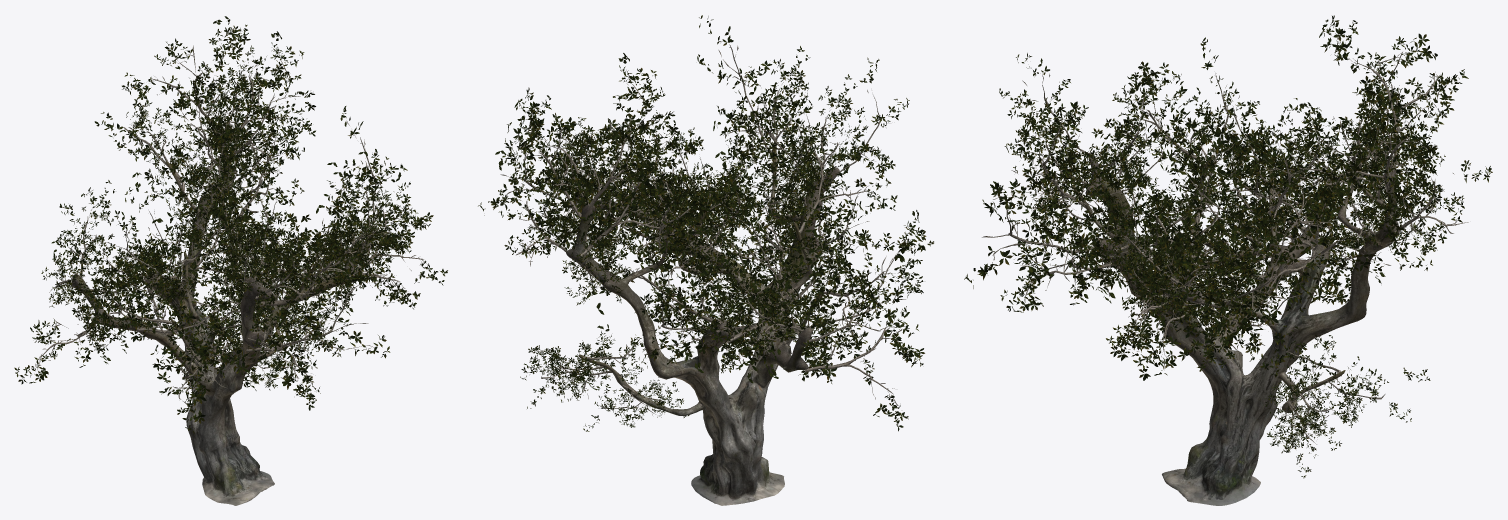
File: island_tree_near.glb
3 views of the same model, side by side, from view 1: azimuth 30°, elevation 25°; view 2: azimuth 150°, elevation 25°; view 3: azimuth 270°, elevation 25° (orthographic). The views are drawn at different scales.
Visible parts, largest first — view 1: island_tree_01_LOD1; view 2: island_tree_01_LOD1; view 3: island_tree_01_LOD1.
Part boxes in pixels (box(x1,y1,x2,y2)): island_tree_01_LOD1: box(14, 16, 447, 505); island_tree_01_LOD1: box(478, 15, 933, 505); island_tree_01_LOD1: box(964, 15, 1492, 505).
Size of the model in its own units: 4.76 by 5.03 by 4.82.
Materials: 3 (3 with a texture image).
